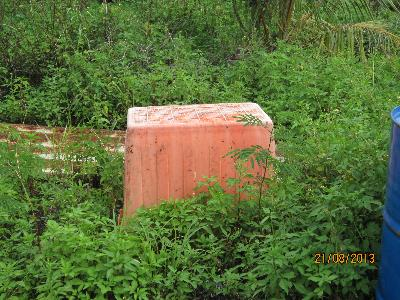box: (117, 100, 281, 233)
